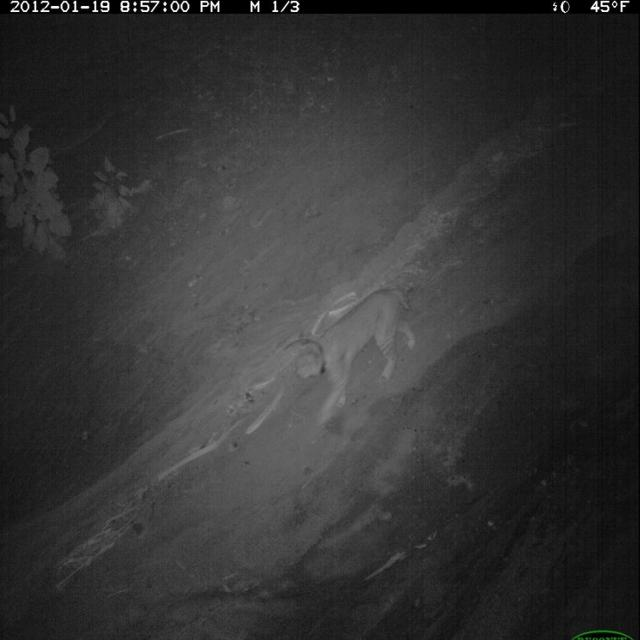bobcat: (294, 279, 421, 431)
